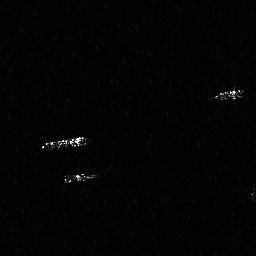ship: (40, 134, 93, 152), (213, 86, 246, 103), (62, 171, 99, 184)
